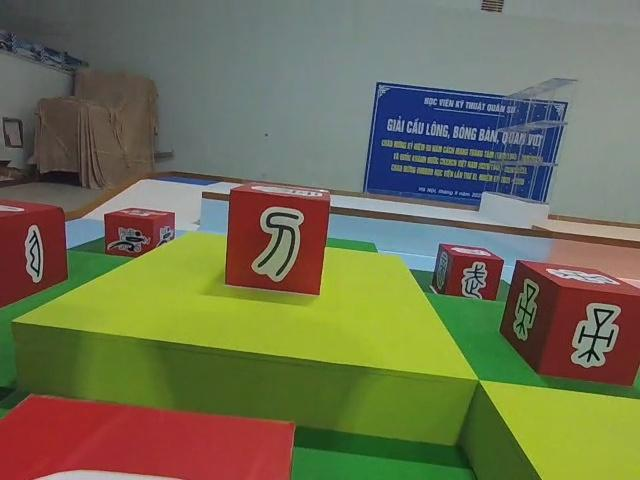R1: (103, 205, 177, 260)
R2 Fake: (223, 178, 334, 298), (431, 241, 505, 303)
R2 Real: (498, 257, 640, 390), (0, 194, 71, 311)
